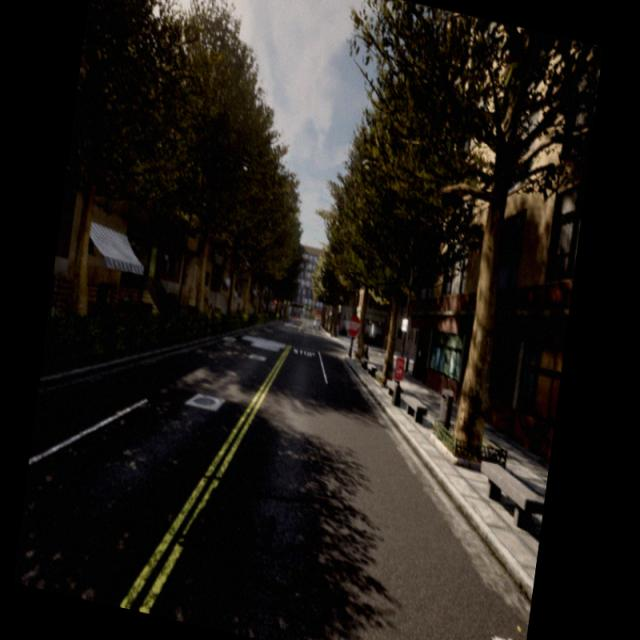stop sign: (346, 312, 362, 338)
